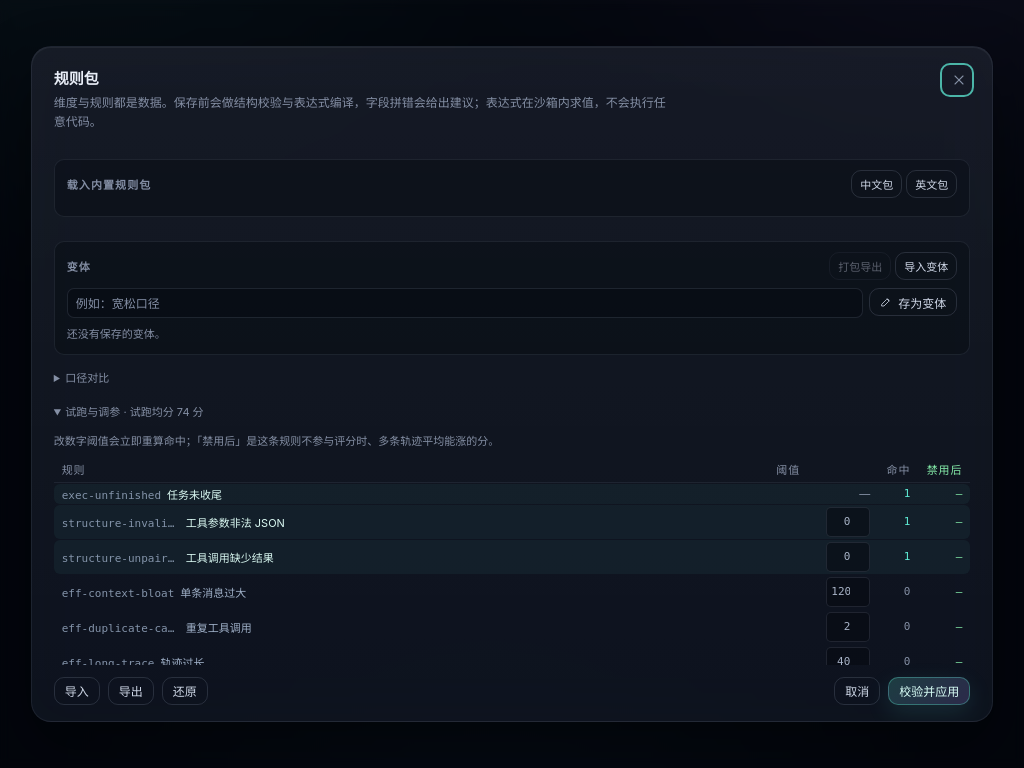
Test case: RuleDrawer built-in packs › loads the English pack into the draft without applying it
The image size is (1024, 768).
Click the button "英文包". click: (932, 184)
box: [906, 170, 957, 198]
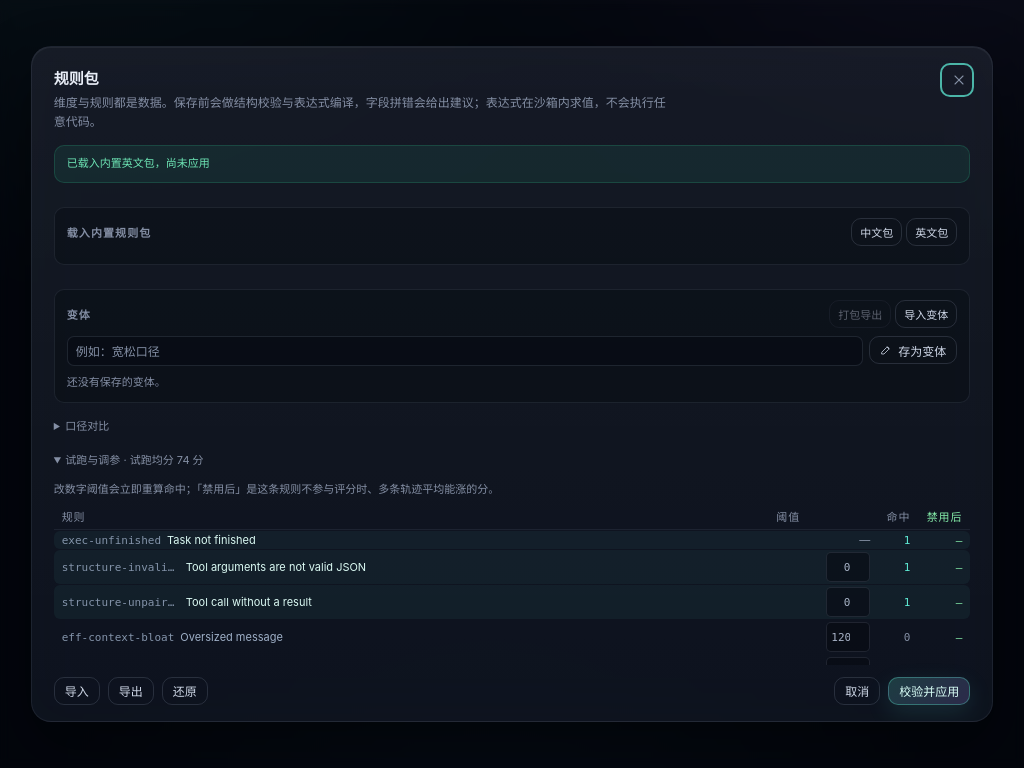
expect the text "已载入内置英文包，尚未应用" is shown: met, box [54, 146, 970, 183]
